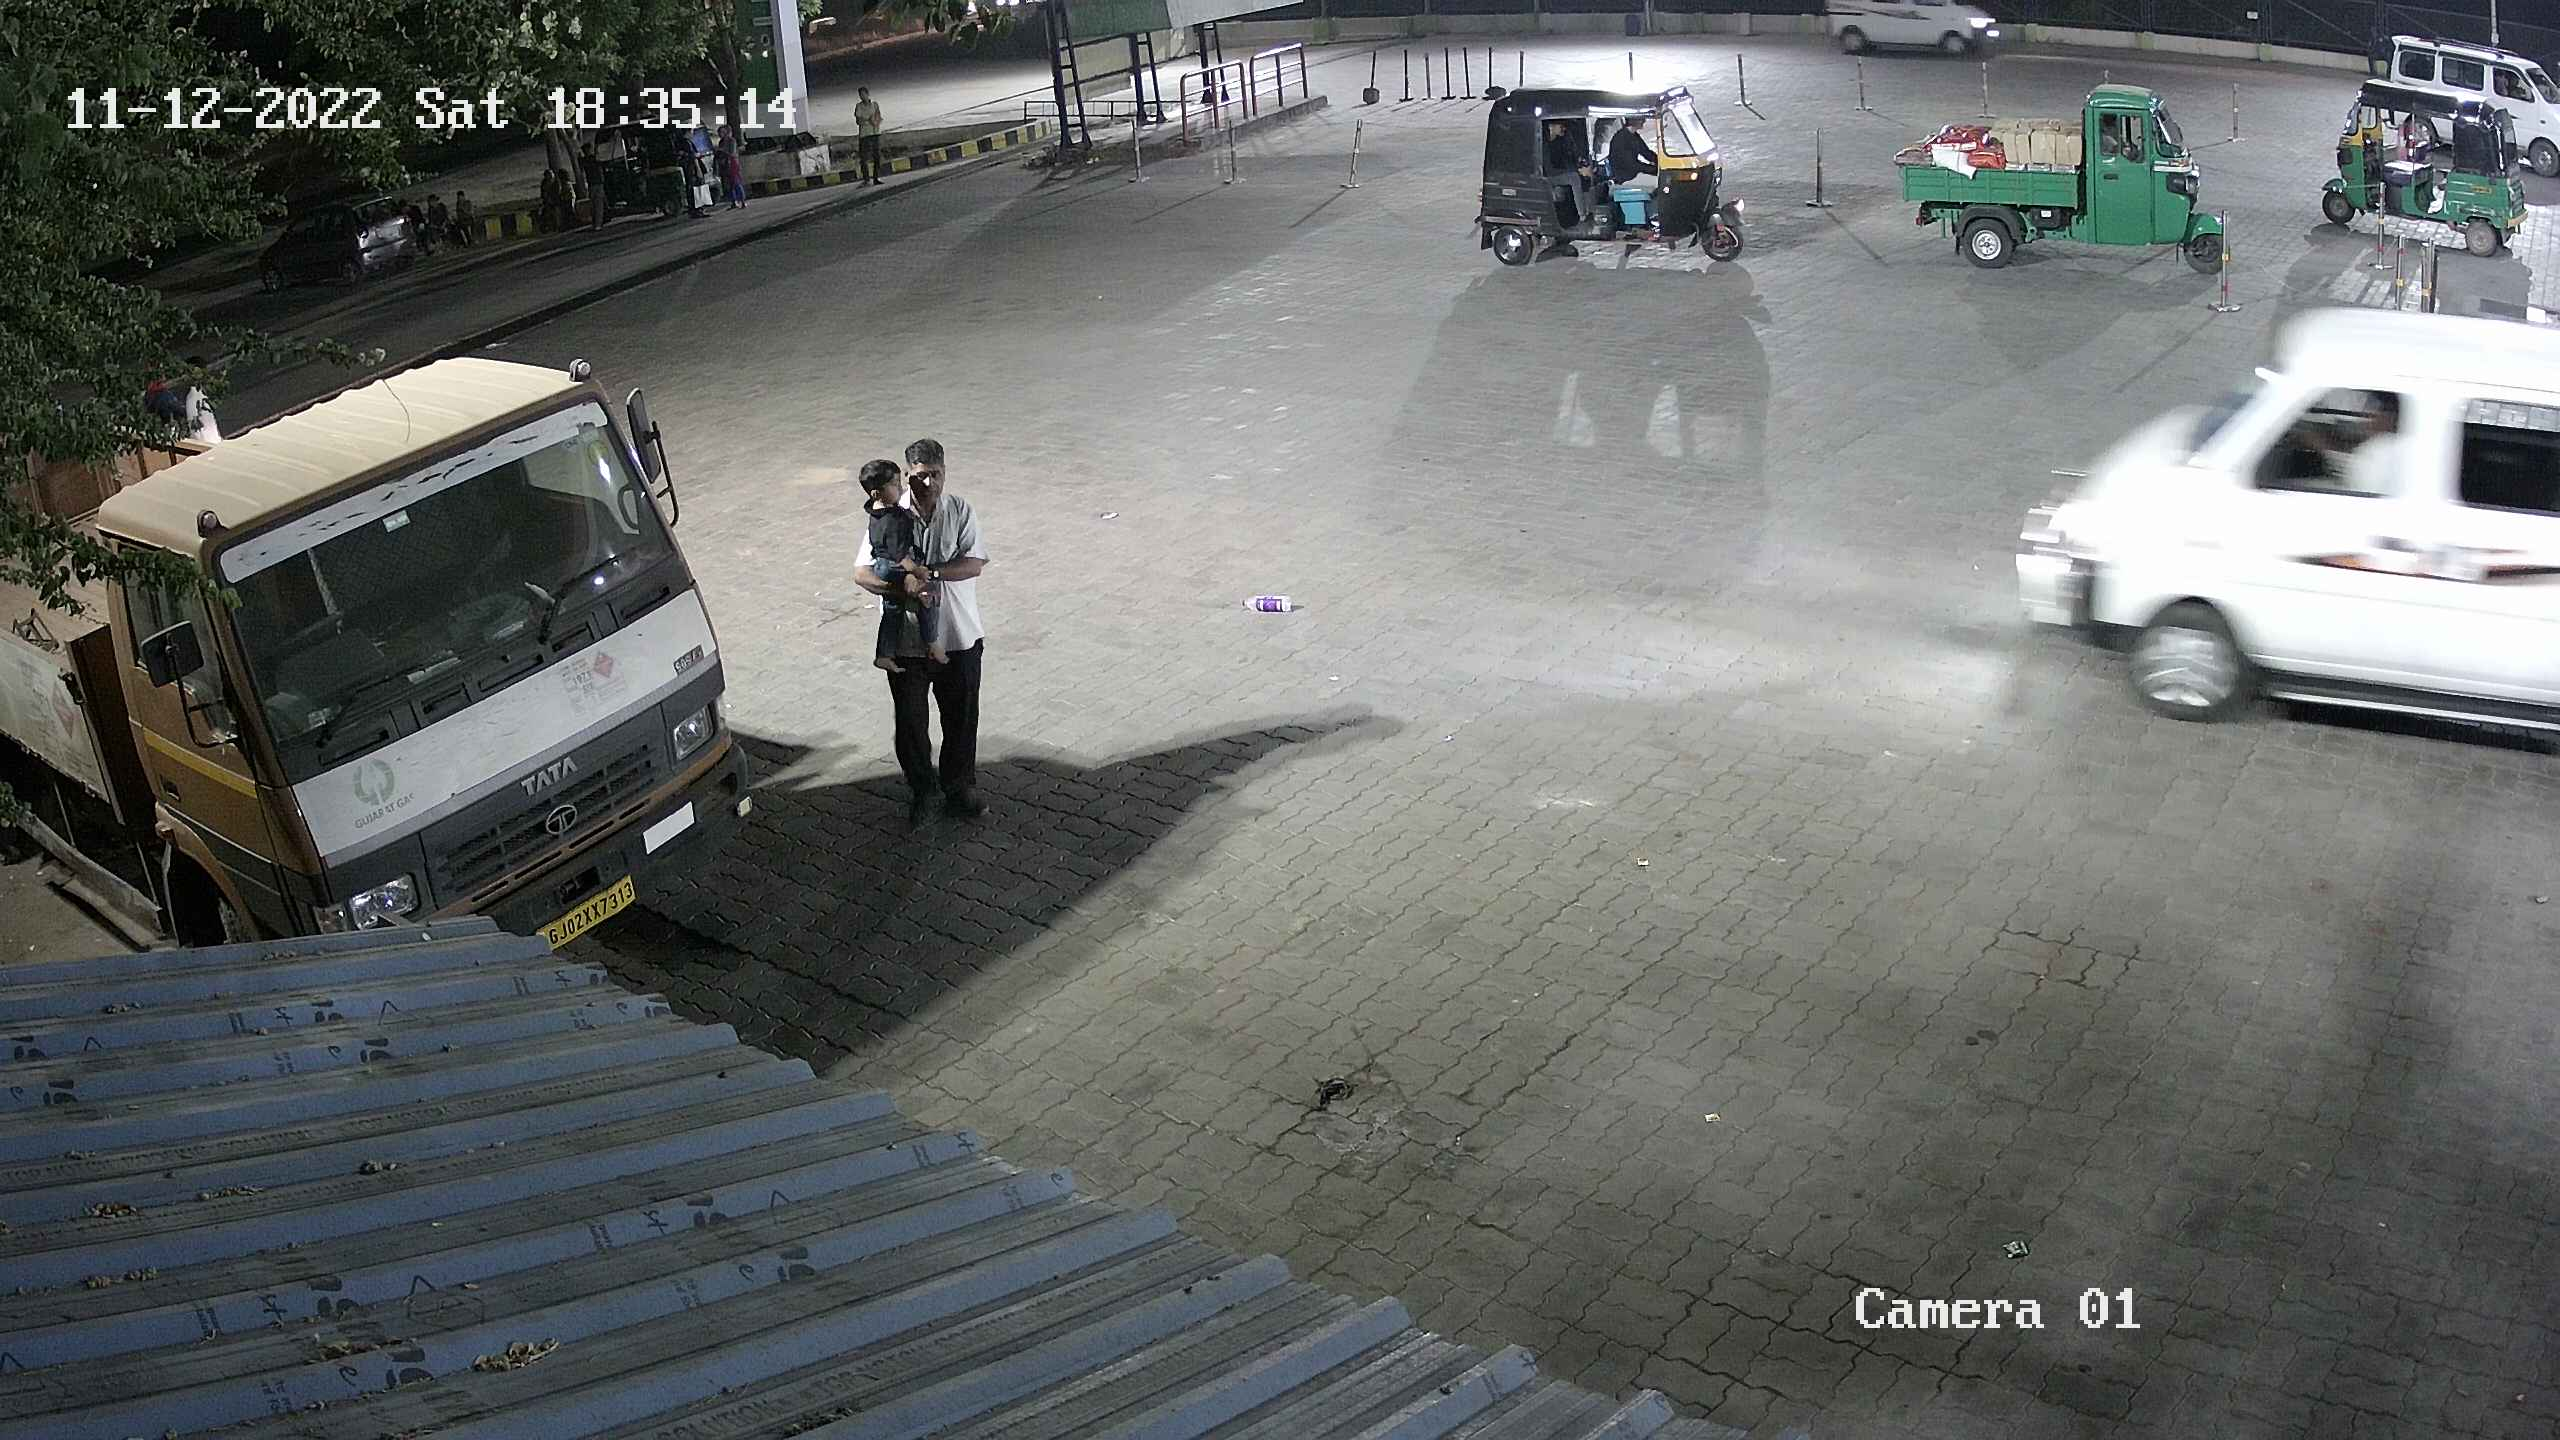Auto: (1880, 70, 2240, 288), (1465, 70, 1751, 274), (2314, 67, 2535, 265), (566, 91, 733, 230)
Car: (2003, 285, 2558, 772), (2365, 25, 2558, 186), (239, 178, 420, 302), (1818, 2, 2013, 63)
HMV: (0, 343, 789, 990)
